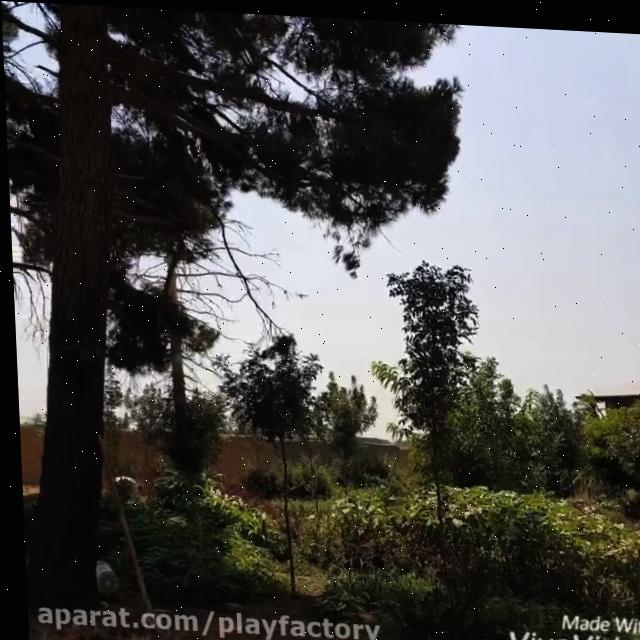drone: (288, 284, 305, 296)
